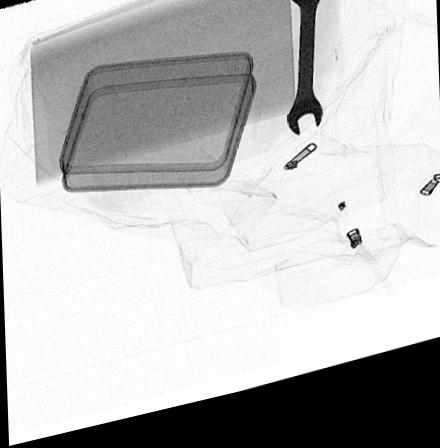Wrench: (285, 0, 327, 148)
